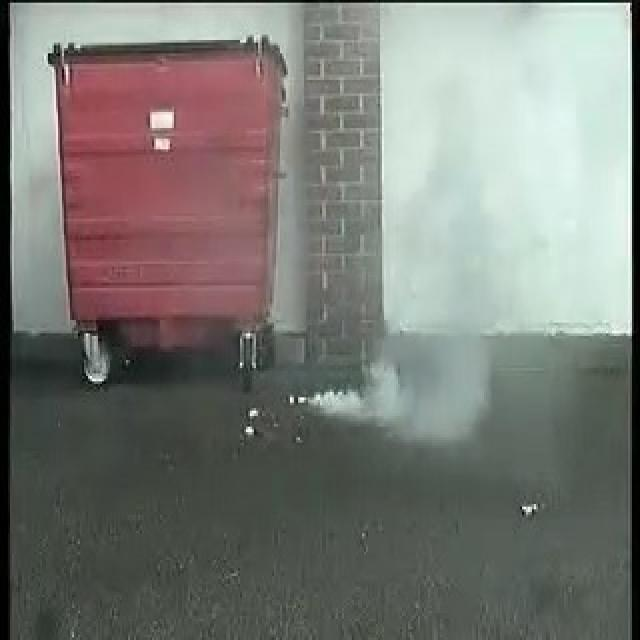smoke: (306, 320, 486, 442)
